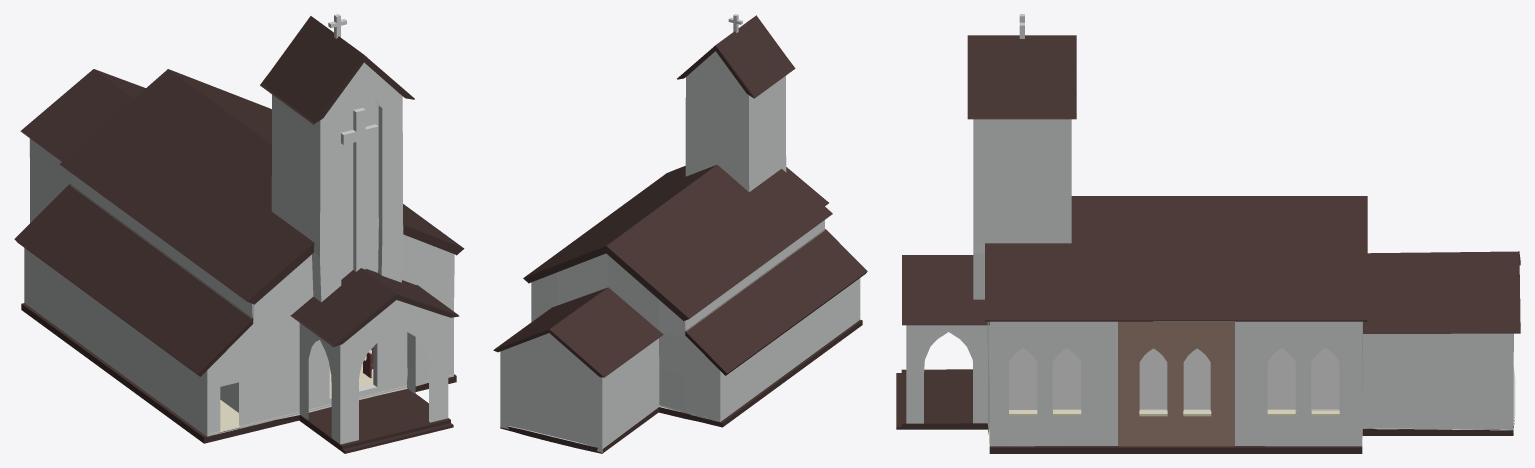
File: church_test.fbx
3 renders of one model, left to right at view 1: azimuth 30°, elevation 25°; view 2: azimuth 150°, elevation 25°; view 3: azimuth 270°, elevation 25°, orthographic. The views are drawn at different scales.
Parts seen in each view (by area): view 1: Cube, mai5, Plane; view 2: mai5, Cube; view 3: Cube, mai5, cuaso.
Part boxes in pixels (x1,y1,x2,y2): Cube: (21,62,456,453); mai5: (14,16,464,376); Plane: (210,349,453,433); mai5: (493,15,867,377); Cube: (500,51,862,453); Cube: (896,119,1515,453); mai5: (902,35,1520,333); cuaso: (1009,348,1339,409).
Size of the model in its own units: 388 by 534 by 778.
